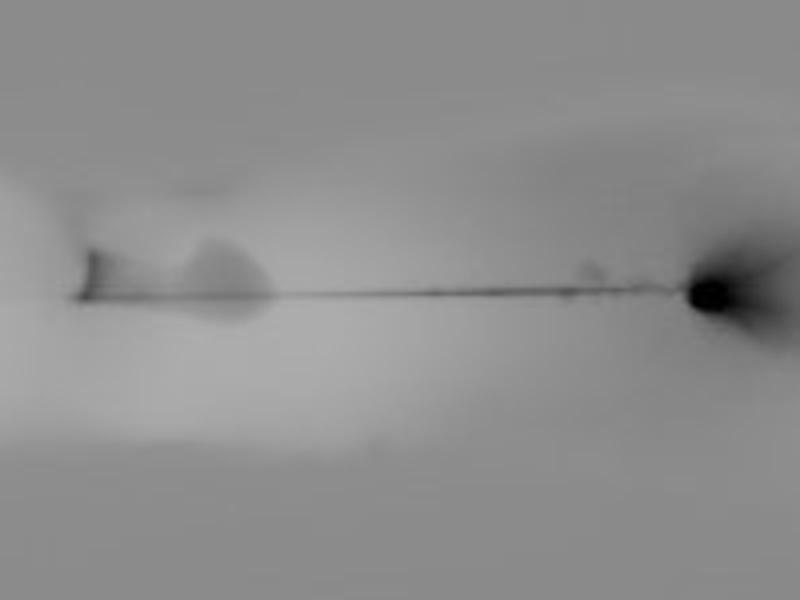defect: (174, 239, 278, 321), (689, 274, 733, 314), (578, 258, 605, 282)
